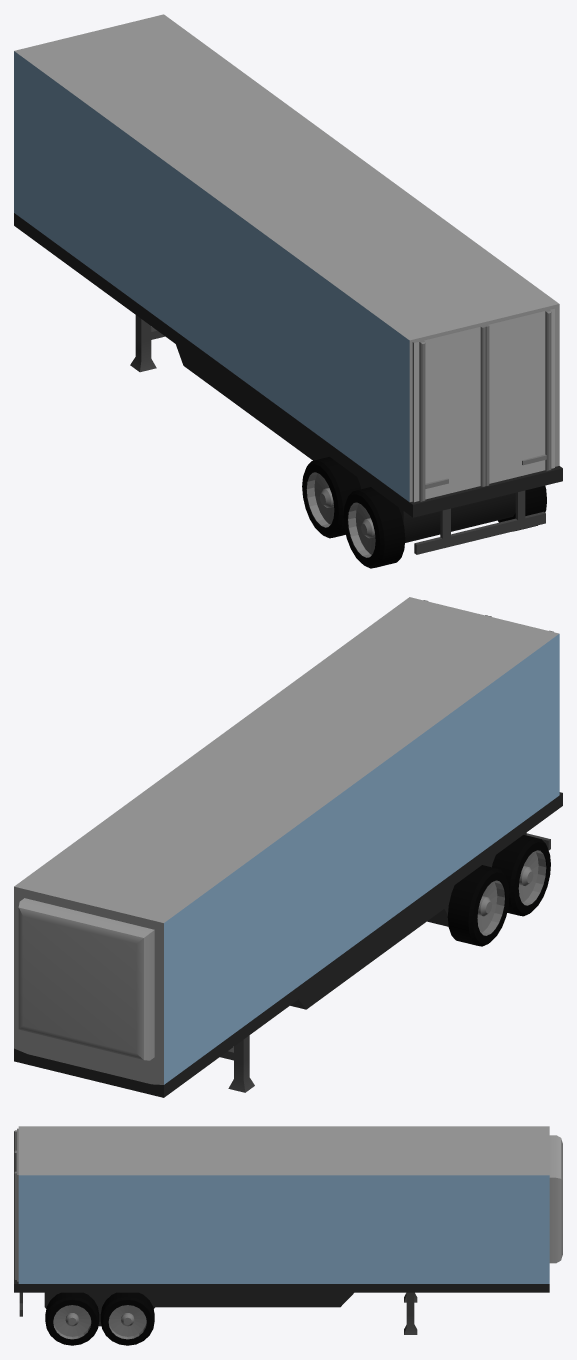
The model's file is Truck.fbx.
The picture shows the model from 3 angles, top to bottom: view 1: azimuth 30°, elevation 25°; view 2: azimuth 150°, elevation 25°; view 3: azimuth 270°, elevation 25°; orthographic projection. The views are drawn at different scales.
Parts seen in each view (by area): view 1: MainBody, Doors, WheelBR2, WheelBR3, BackGuard, Kickstand; view 2: MainBody, WheelBR3, WheelBR2, Kickstand; view 3: MainBody, WheelBR, WheelBR1, Doors, Kickstand.
Part boxes in pixels (bbox=[...]): MainBody: bbox=[14, 14, 562, 542]; Doors: bbox=[412, 307, 554, 502]; WheelBR2: bbox=[343, 487, 405, 568]; WheelBR3: bbox=[302, 457, 360, 538]; BackGuard: bbox=[414, 490, 545, 554]; Kickstand: bbox=[130, 315, 164, 372]; MainBody: bbox=[14, 597, 562, 1097]; WheelBR3: bbox=[447, 865, 509, 946]; WheelBR2: bbox=[492, 835, 550, 916]; Kickstand: bbox=[220, 1035, 254, 1092]; MainBody: bbox=[14, 1126, 562, 1326]; WheelBR: bbox=[45, 1292, 99, 1345]; WheelBR1: bbox=[100, 1292, 154, 1345]; Doors: bbox=[14, 1128, 18, 1281]; Kickstand: bbox=[404, 1292, 417, 1334].
Bounding box in the file's own units: 2.3 × 3.24 × 9.57.
